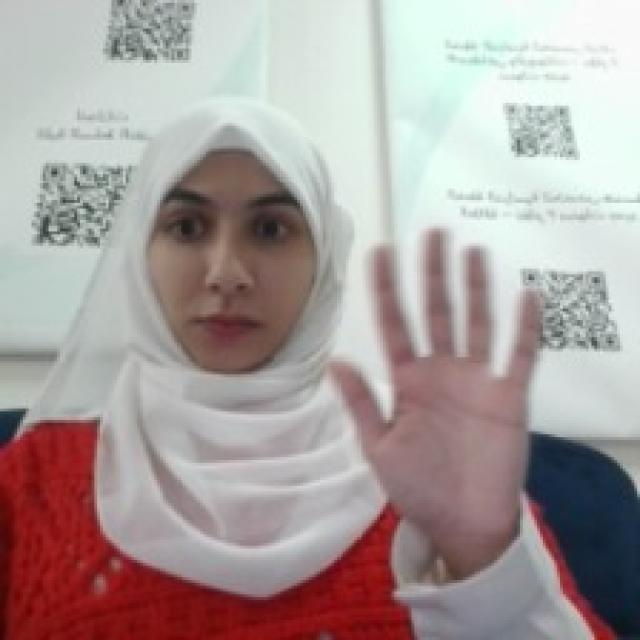Hello: (320, 214, 546, 532)
